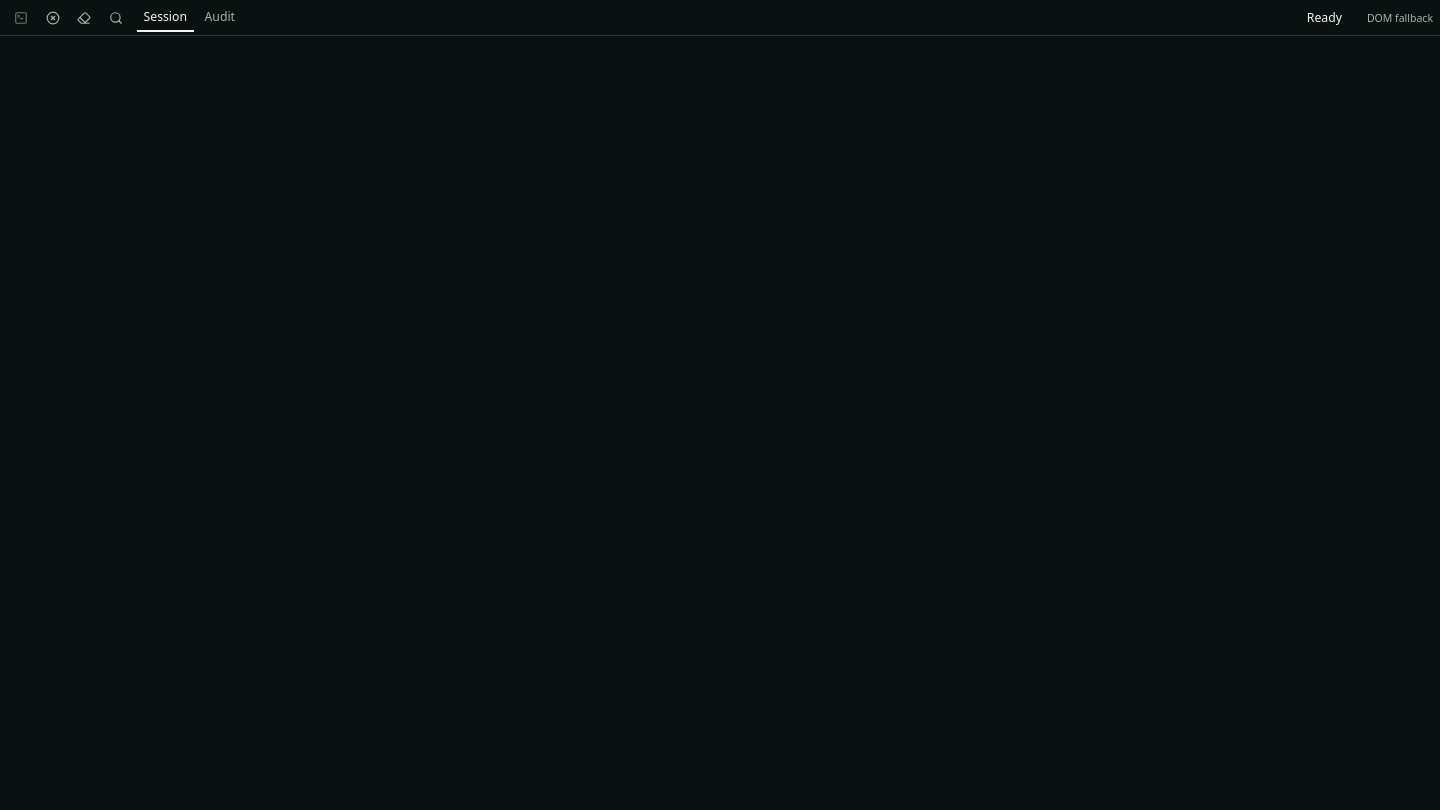
Test: CloseTerminalDialog › asks for confirmation before forwarding one Close to the controller
The image size is (1440, 810).
Click the button named "Close terminal". click: (52, 18)
box: [38,4,66,32]
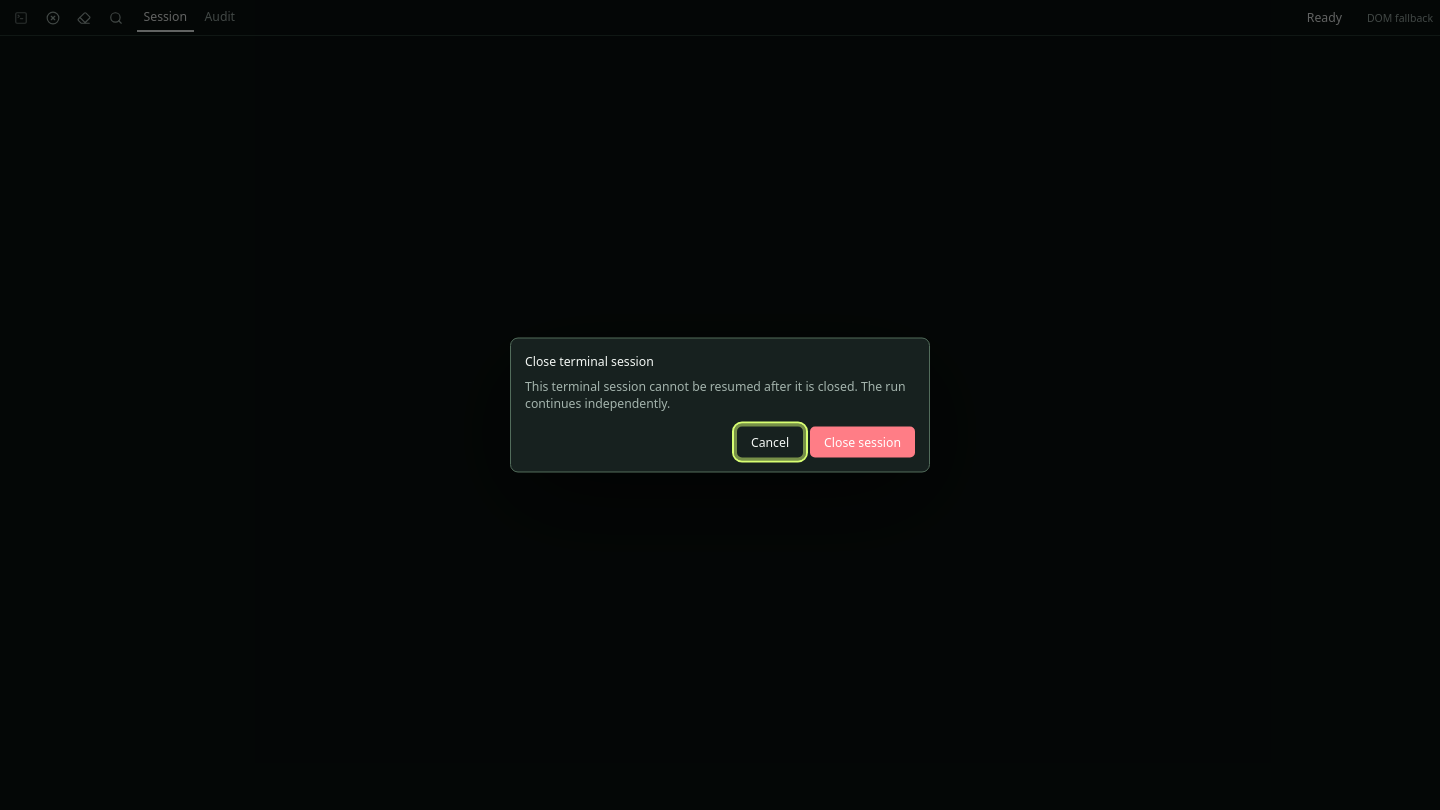
Click the button "Close session". click: (863, 442)
box: [810,426,915,458]
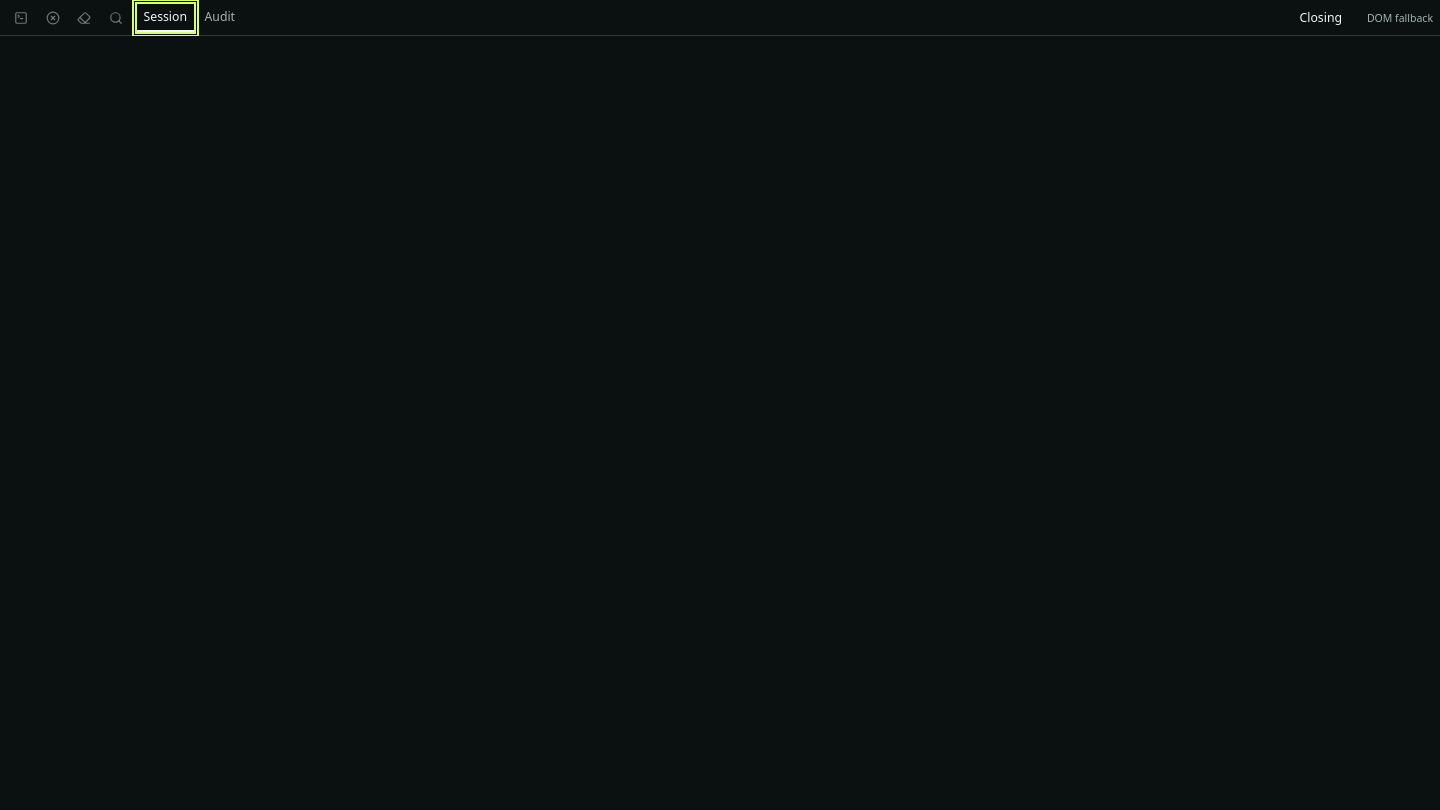
Expected: the dialog is gone
Expected: the button named "Close terminal" is disabled, [38,4,66,32]
